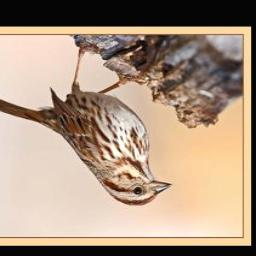Sparrow: (0, 37, 175, 208)
